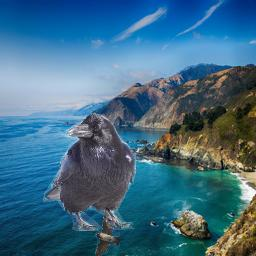Crow: (43, 112, 136, 231)
Swallow: (95, 209, 120, 256)
